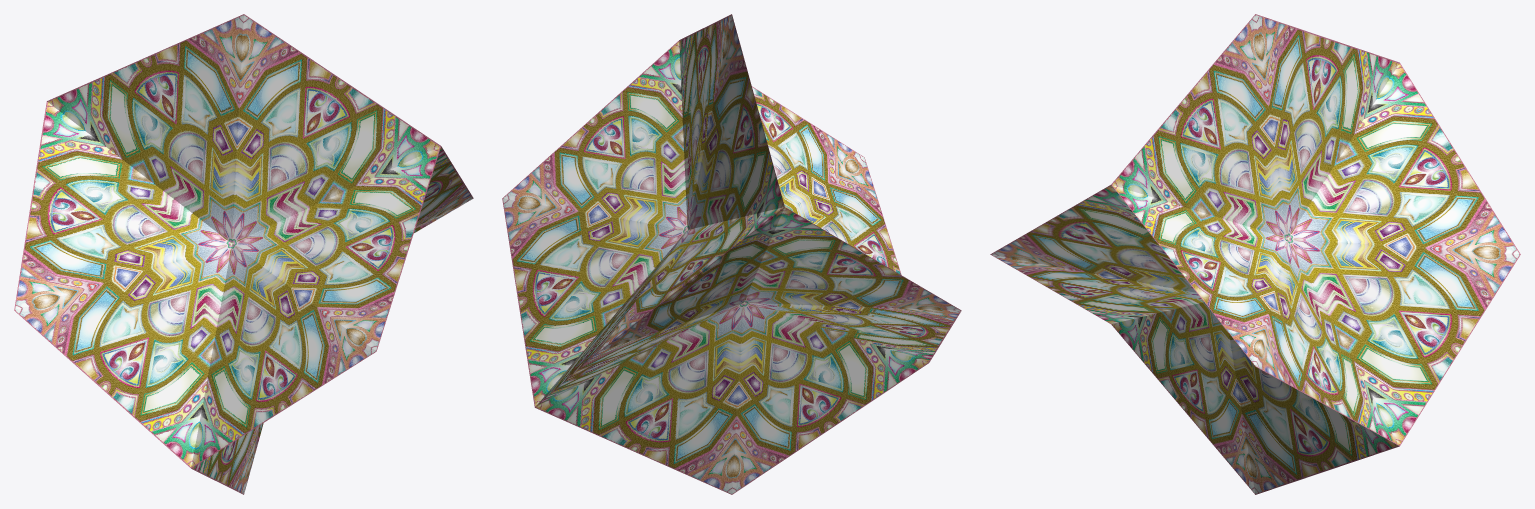
The model's file is 6Mobius24.obj.
3 views of the same model, side by side, from view 1: azimuth 30°, elevation 25°; view 2: azimuth 150°, elevation 25°; view 3: azimuth 270°, elevation 25° (orthographic).
Size of the model in its own units: 2.24 by 2.24 by 2.24.
Materials: 1 (1 with a texture image).
